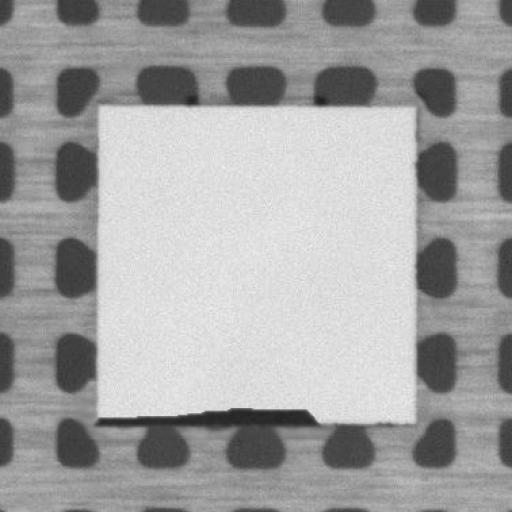DIE_BROKEN: (94, 405, 322, 427)
